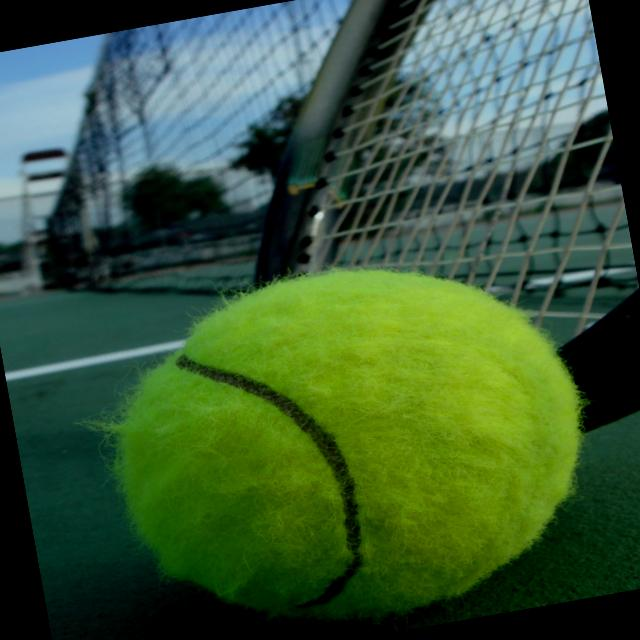Tennis ball: (60, 223, 621, 640)
